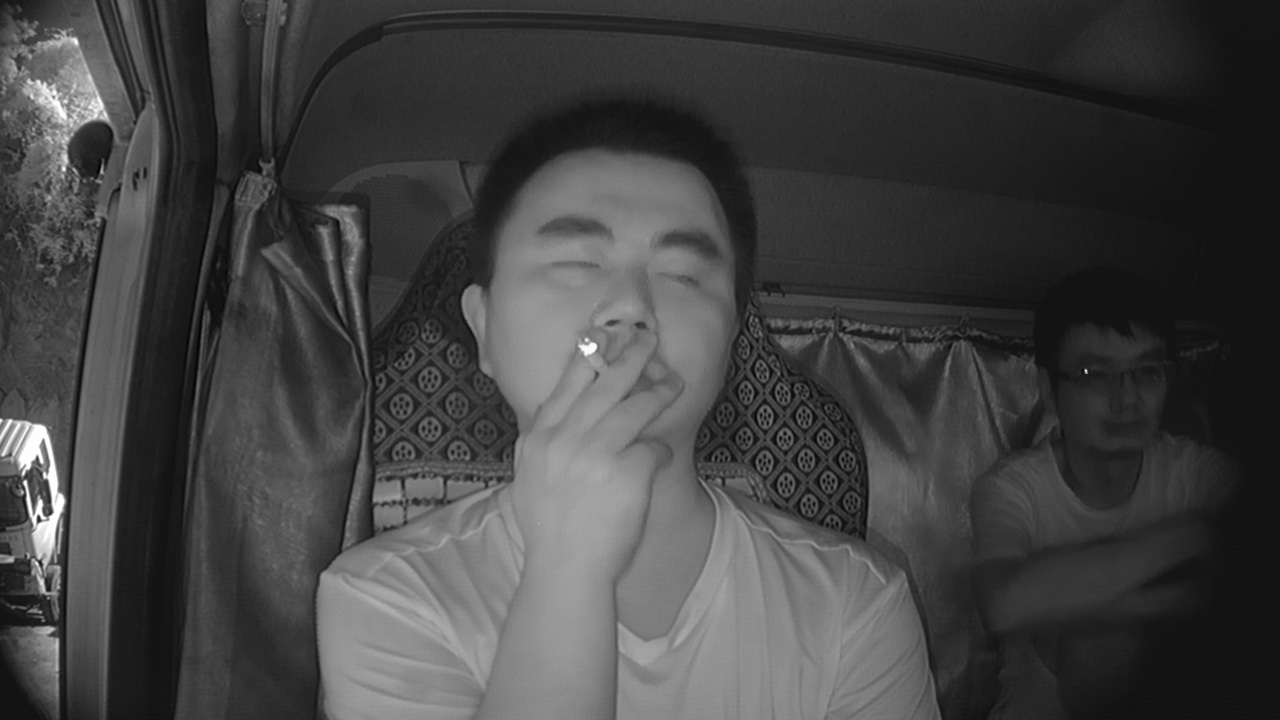hand: (520, 332, 676, 519)
